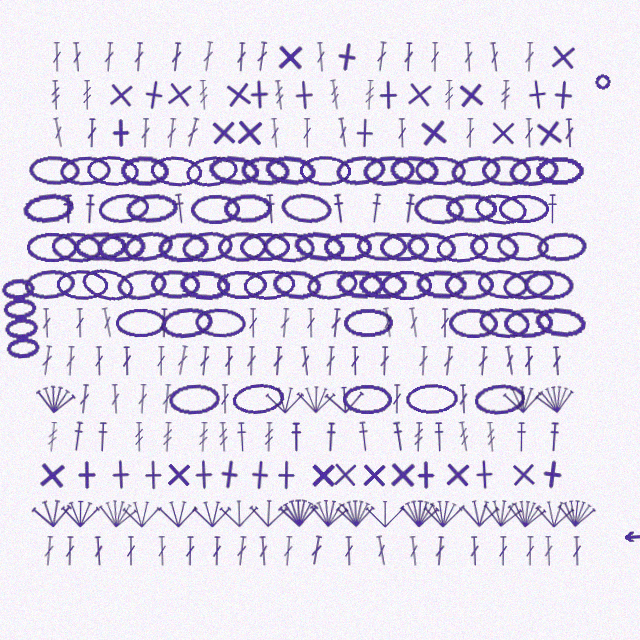chain: (79, 264, 136, 305), (121, 228, 176, 265), (473, 191, 529, 227), (184, 153, 239, 189), (305, 267, 359, 303), (501, 267, 555, 303), (279, 191, 334, 226), (159, 305, 214, 340), (263, 153, 317, 188), (334, 153, 388, 188), (449, 153, 503, 188), (507, 153, 561, 188), (21, 191, 75, 226), (97, 191, 151, 226), (180, 229, 234, 264), (292, 229, 346, 264), (23, 267, 77, 302), (476, 267, 530, 302), (477, 305, 531, 340), (533, 305, 587, 340), (231, 381, 285, 416), (149, 154, 204, 188), (435, 230, 490, 264), (207, 153, 260, 188), (115, 267, 168, 302), (473, 382, 527, 416), (242, 268, 297, 301), (50, 230, 103, 264), (405, 230, 458, 264), (468, 230, 521, 264), (271, 268, 323, 302), (86, 154, 139, 187), (362, 154, 415, 187), (125, 192, 178, 225), (496, 230, 549, 263), (178, 268, 231, 301), (414, 155, 467, 187), (263, 231, 316, 263), (389, 154, 440, 187), (96, 230, 147, 263), (335, 268, 386, 301), (59, 155, 111, 187), (157, 231, 209, 263), (536, 231, 588, 263), (194, 307, 246, 339), (168, 383, 220, 415), (28, 155, 81, 186), (56, 269, 109, 300), (405, 383, 458, 414), (240, 155, 291, 187), (413, 193, 464, 225), (299, 155, 351, 186), (445, 193, 497, 224), (74, 231, 126, 262), (356, 231, 408, 262), (415, 269, 467, 300), (523, 269, 575, 300), (481, 155, 532, 186), (217, 231, 268, 262), (150, 269, 201, 300), (444, 269, 495, 300), (503, 307, 554, 338), (26, 232, 78, 262), (216, 270, 268, 300), (115, 308, 167, 338), (120, 155, 170, 186), (223, 193, 273, 224), (498, 194, 549, 224), (239, 232, 290, 262), (379, 232, 430, 262), (381, 270, 432, 300), (343, 308, 394, 338), (448, 308, 499, 338), (342, 384, 393, 414), (535, 156, 585, 186), (190, 194, 240, 224), (323, 232, 373, 262), (358, 270, 408, 300)
double: (184, 117, 201, 148), (51, 117, 66, 148), (100, 307, 115, 338), (175, 345, 190, 376), (309, 535, 324, 566), (374, 535, 389, 566), (201, 41, 215, 72), (255, 41, 269, 72), (336, 117, 350, 148), (381, 307, 395, 338), (407, 307, 421, 338), (40, 345, 54, 376), (503, 345, 517, 376), (375, 41, 388, 72), (170, 42, 183, 72), (488, 42, 501, 72), (165, 118, 178, 148), (198, 346, 211, 376), (299, 346, 312, 376), (442, 346, 455, 376), (78, 384, 91, 414), (235, 536, 248, 566), (71, 42, 83, 72), (103, 42, 115, 72), (133, 42, 145, 72), (315, 42, 327, 72), (269, 118, 281, 148), (279, 308, 291, 338), (330, 308, 342, 338), (272, 346, 284, 376), (477, 346, 489, 376), (551, 346, 563, 376), (161, 384, 173, 414), (43, 536, 55, 566), (282, 536, 294, 566), (408, 536, 420, 566), (434, 536, 446, 566), (236, 42, 247, 72), (403, 42, 414, 72), (463, 42, 474, 72), (524, 42, 535, 72), (140, 118, 151, 148), (564, 118, 575, 148), (41, 308, 52, 338), (65, 346, 76, 376), (246, 346, 257, 376), (325, 346, 336, 376), (379, 346, 390, 376), (418, 346, 429, 376), (110, 384, 121, 414), (137, 384, 148, 414), (458, 384, 469, 414), (93, 536, 104, 566), (258, 536, 269, 566), (469, 536, 480, 566), (543, 536, 554, 566), (52, 42, 62, 72), (430, 42, 440, 72), (87, 118, 97, 148), (302, 118, 312, 148), (397, 118, 407, 148), (465, 118, 475, 148), (524, 118, 534, 148), (75, 308, 85, 338), (159, 308, 169, 338), (248, 308, 258, 338), (306, 308, 316, 338), (440, 308, 450, 338), (94, 346, 104, 376), (122, 346, 132, 376), (156, 346, 166, 376), (224, 346, 234, 376), (350, 346, 360, 376), (524, 346, 534, 376), (220, 384, 230, 414), (392, 384, 402, 414), (65, 536, 75, 566), (126, 536, 136, 566), (157, 536, 167, 566), (185, 536, 195, 566), (212, 536, 222, 566), (344, 536, 354, 566), (498, 536, 508, 566), (525, 536, 535, 566), (572, 536, 582, 566)
enseble_chain: (0, 277, 44, 363)
fan: (533, 381, 577, 416), (481, 495, 524, 530), (34, 382, 77, 416), (96, 496, 139, 530), (505, 496, 548, 530), (308, 496, 350, 529), (556, 496, 597, 529), (31, 497, 73, 529), (324, 383, 365, 415), (399, 497, 440, 529), (534, 497, 575, 529), (502, 383, 543, 414), (248, 497, 289, 528), (278, 497, 319, 528), (335, 497, 376, 528), (296, 383, 336, 414), (219, 497, 259, 528), (460, 497, 500, 528), (265, 384, 305, 414), (158, 498, 198, 528), (192, 498, 232, 528), (365, 498, 405, 528), (423, 498, 463, 528), (61, 498, 100, 528), (122, 498, 161, 528)
half_double: (402, 193, 417, 224), (391, 421, 406, 452), (173, 193, 187, 224), (332, 193, 346, 224), (369, 193, 383, 224), (71, 421, 85, 452), (357, 421, 371, 452), (264, 194, 277, 224), (96, 422, 109, 452), (62, 194, 74, 224), (84, 194, 96, 224), (236, 422, 248, 452), (290, 422, 302, 452), (325, 422, 337, 452), (433, 422, 445, 452), (548, 422, 560, 452), (547, 194, 558, 224), (516, 422, 527, 452)
noise: (592, 71, 613, 92), (622, 531, 640, 542)
single: (330, 40, 364, 74), (137, 78, 171, 112), (532, 116, 566, 150), (163, 78, 196, 111), (222, 78, 255, 111), (403, 78, 436, 111), (521, 78, 554, 111), (417, 116, 450, 149), (213, 458, 246, 491), (536, 458, 569, 491), (547, 41, 579, 73), (105, 79, 137, 111), (288, 79, 320, 111), (455, 79, 487, 111), (547, 79, 579, 111), (36, 459, 68, 491), (244, 459, 276, 491), (244, 79, 275, 110), (208, 117, 239, 148), (234, 117, 265, 148), (105, 459, 136, 490), (163, 459, 194, 490), (188, 459, 219, 490), (387, 459, 418, 490), (442, 459, 473, 490), (469, 459, 500, 490), (508, 459, 539, 490), (330, 459, 360, 490), (275, 42, 305, 72), (373, 80, 403, 110), (106, 118, 136, 148), (488, 118, 518, 148), (72, 460, 102, 490), (138, 460, 168, 490), (271, 460, 301, 490), (308, 460, 338, 490), (359, 460, 389, 490), (350, 118, 379, 148), (411, 460, 440, 490)
treble: (328, 79, 342, 110), (457, 421, 471, 452), (273, 80, 286, 110), (46, 422, 59, 452), (485, 422, 497, 452), (50, 80, 61, 110), (198, 80, 209, 110), (364, 80, 375, 110), (500, 80, 511, 110), (162, 422, 173, 452), (198, 422, 209, 452), (218, 422, 229, 452), (413, 422, 424, 452), (82, 80, 92, 110), (444, 80, 454, 110), (134, 422, 144, 452), (264, 422, 274, 452)
